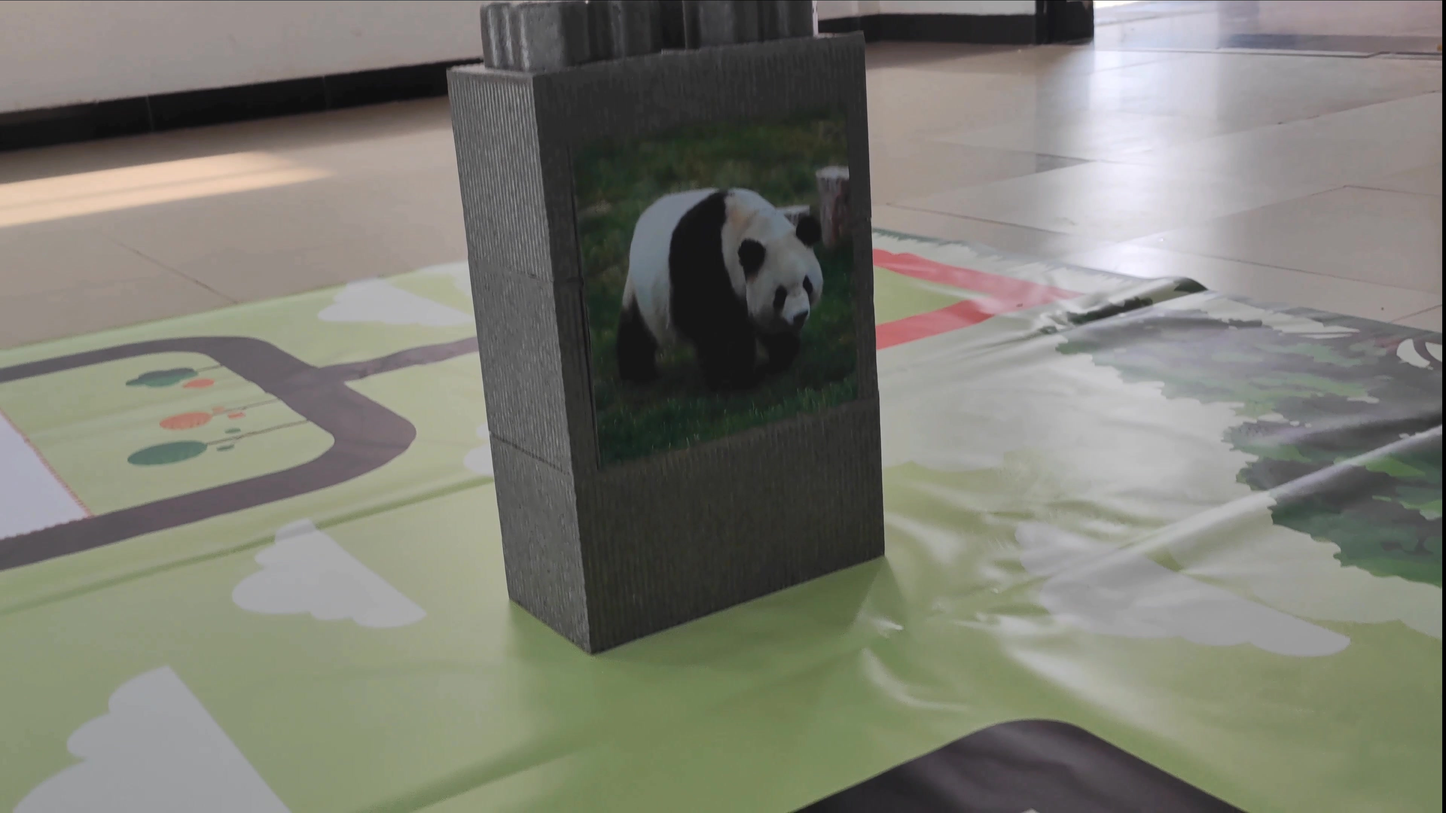panda: (594, 161, 840, 427)
